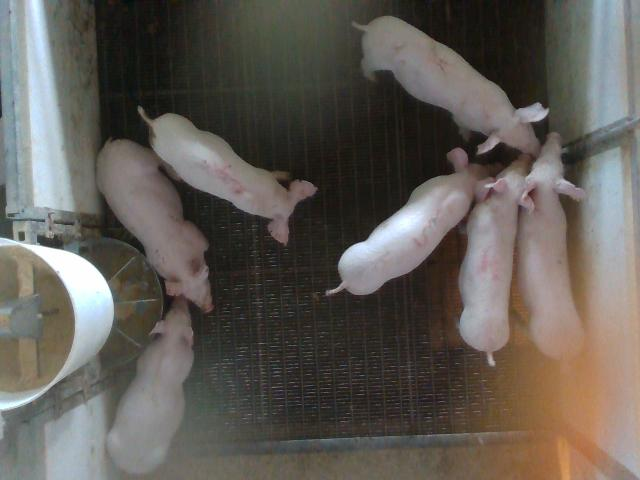pig-3: (326, 149, 502, 295)
pig-4: (459, 154, 532, 366)
pig-5: (138, 106, 316, 244)
